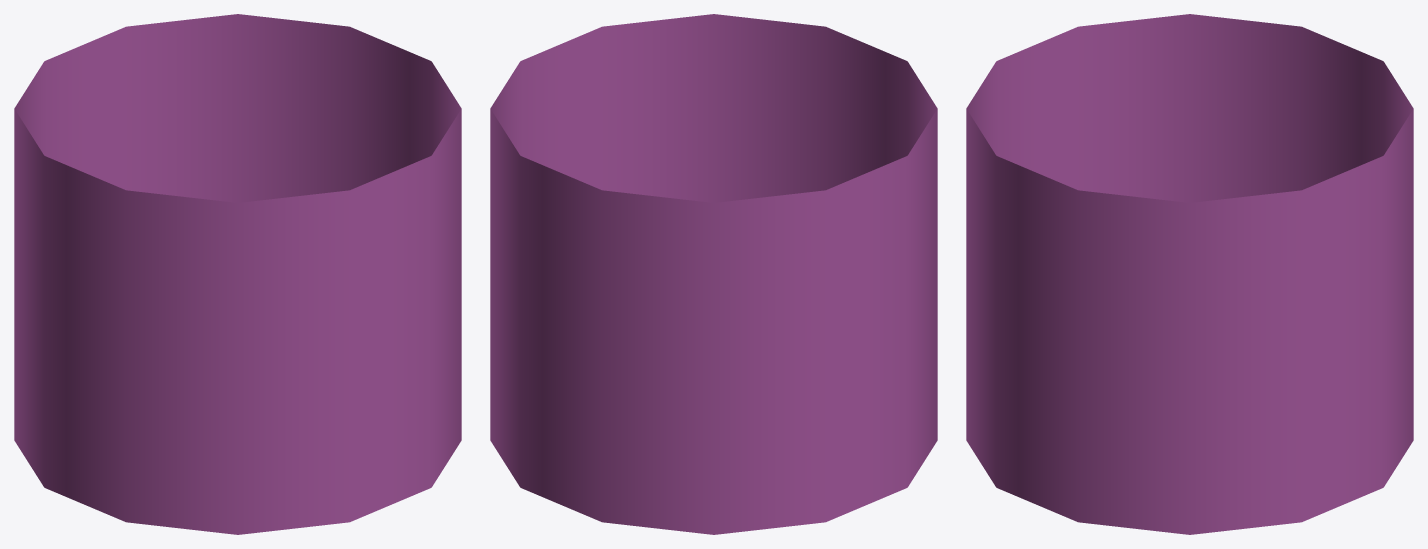
The model's file is PipeMiddle.fbx.
3 views of the same model, side by side, from view 1: azimuth 30°, elevation 25°; view 2: azimuth 150°, elevation 25°; view 3: azimuth 270°, elevation 25° (orthographic).
Parts seen in each view (by area): view 1: Pipe_Middle; view 2: Pipe_Middle; view 3: Pipe_Middle.
Part boxes in pixels (x1,y1,x2,y2): Pipe_Middle: (14,14,461,534); Pipe_Middle: (490,14,937,534); Pipe_Middle: (966,14,1413,534).
Bounding box in the file's own units: 32.56 × 26.67 × 32.56.
